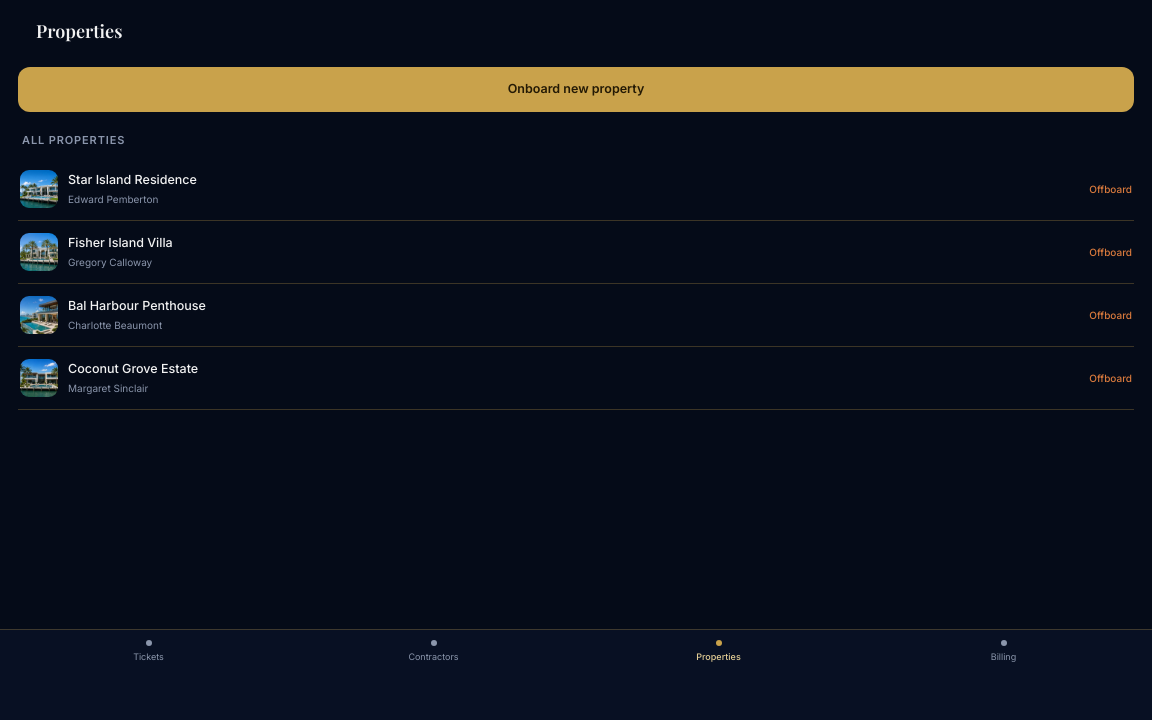
Scenario: Pendiente #1: onboarding a test property makes it appear in the Owner picker › a property added in Admin shows up as a pickable owner
Click the button "Onboard new property" at (576, 89), box [18, 67, 1134, 112]
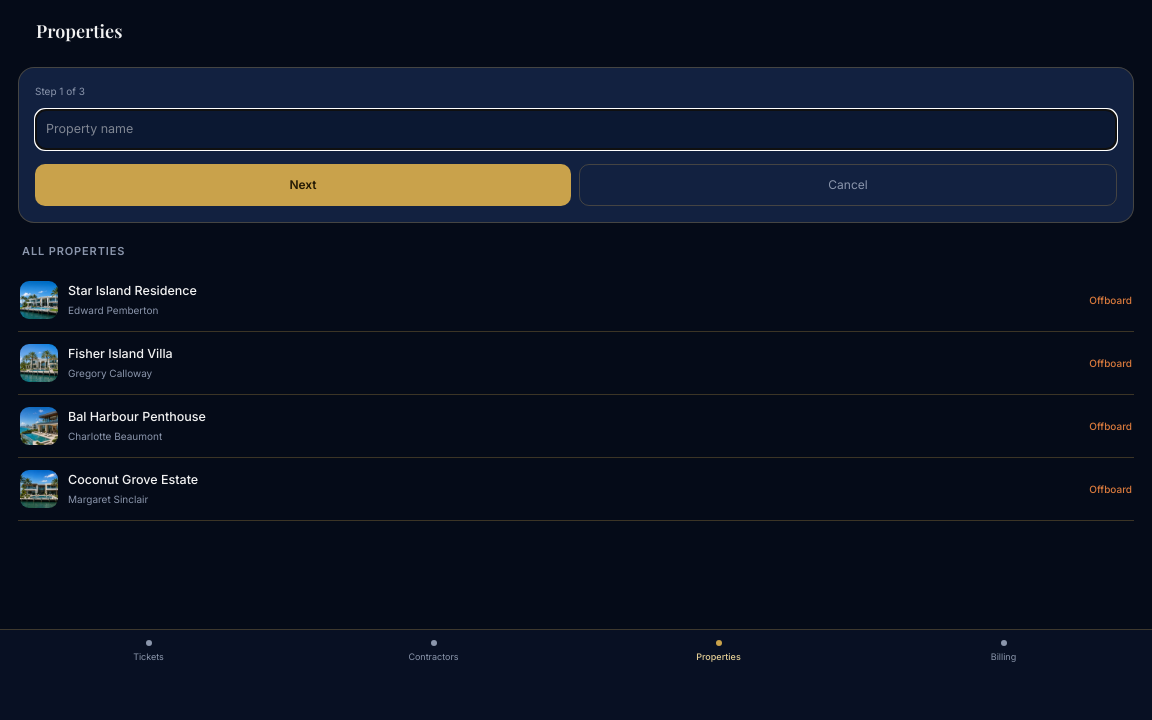
Type "Test Villa" into the field with placeholder "Property name" at (576, 129), box [35, 109, 1117, 150]
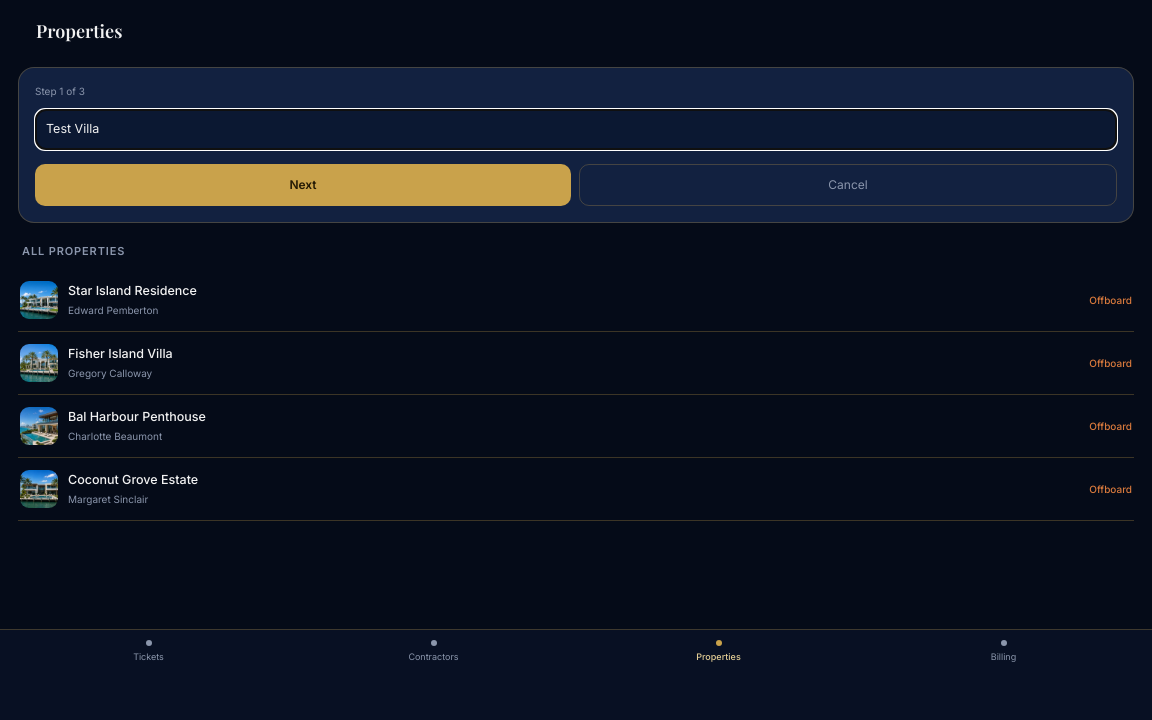
Click the button "Next" at (303, 185), box [35, 164, 571, 206]
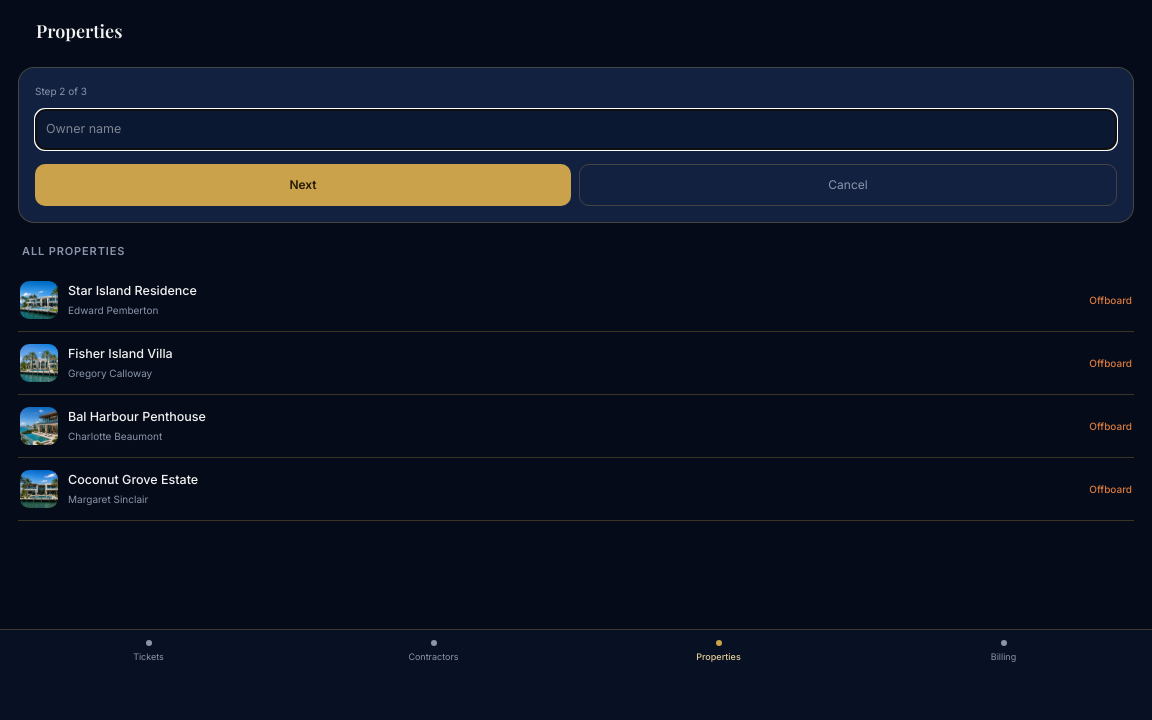
Type "Test Owner" into the field with placeholder "Owner name" at (576, 129), box [35, 109, 1117, 150]
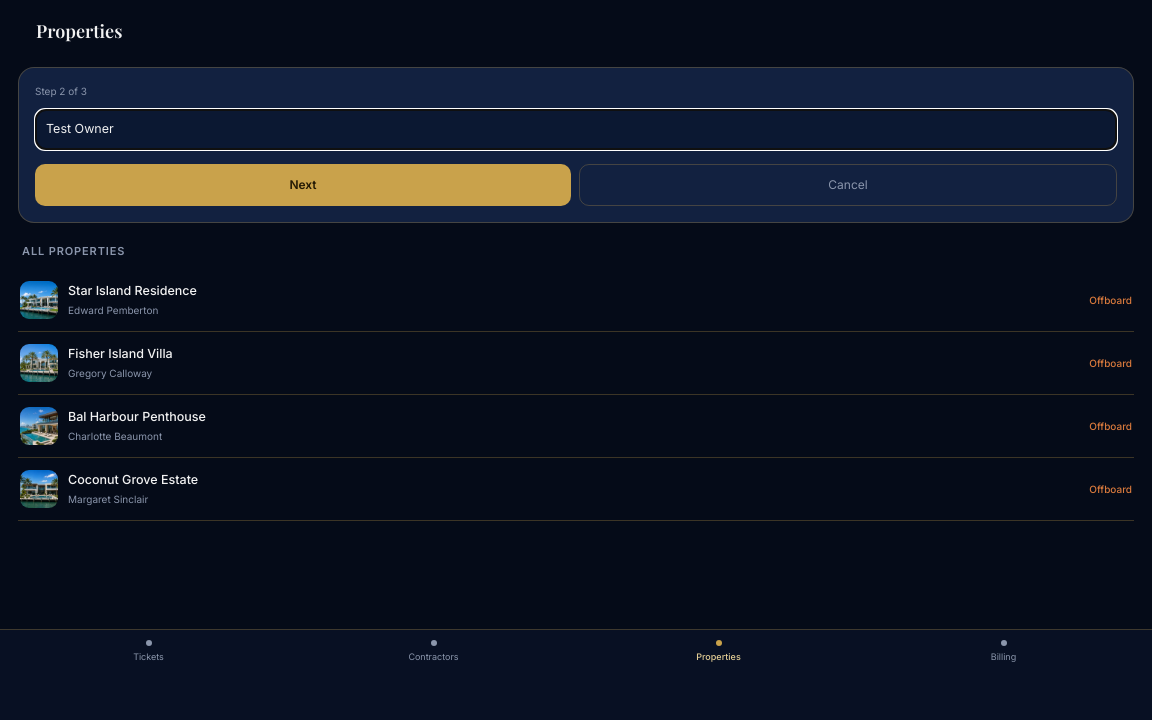
Click the button "Next" at (303, 185), box [35, 164, 571, 206]
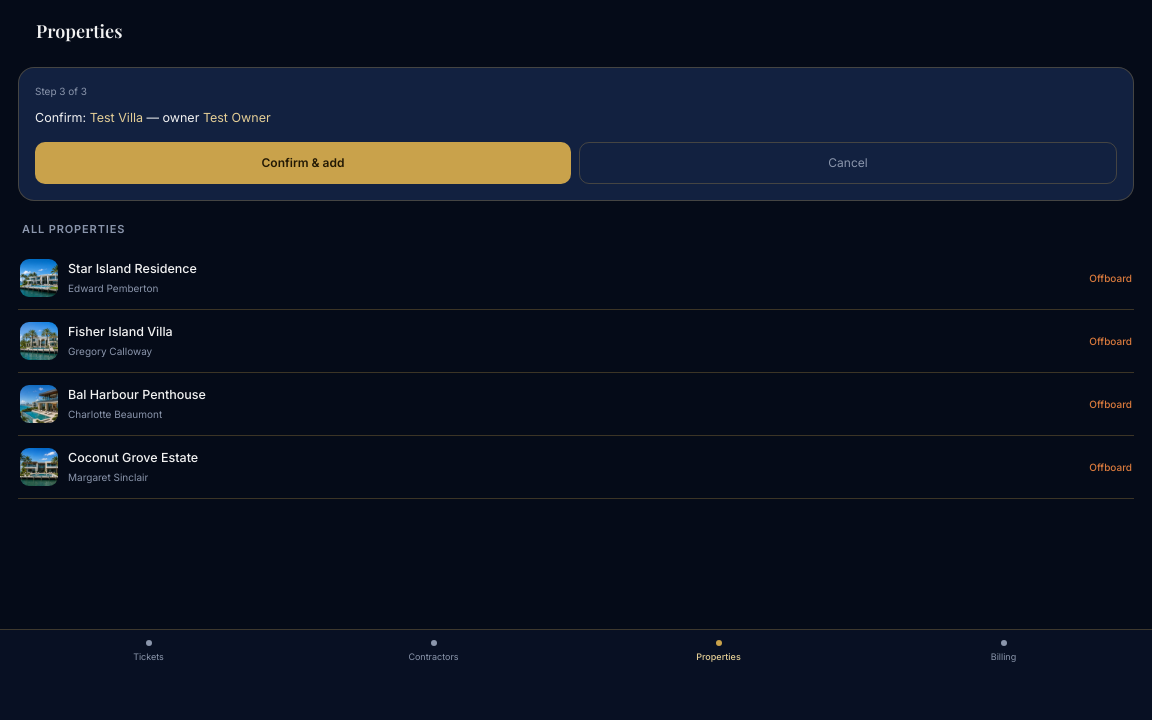
Click the button "Confirm & add" at (303, 163), box [35, 142, 571, 184]
(page scrolled)
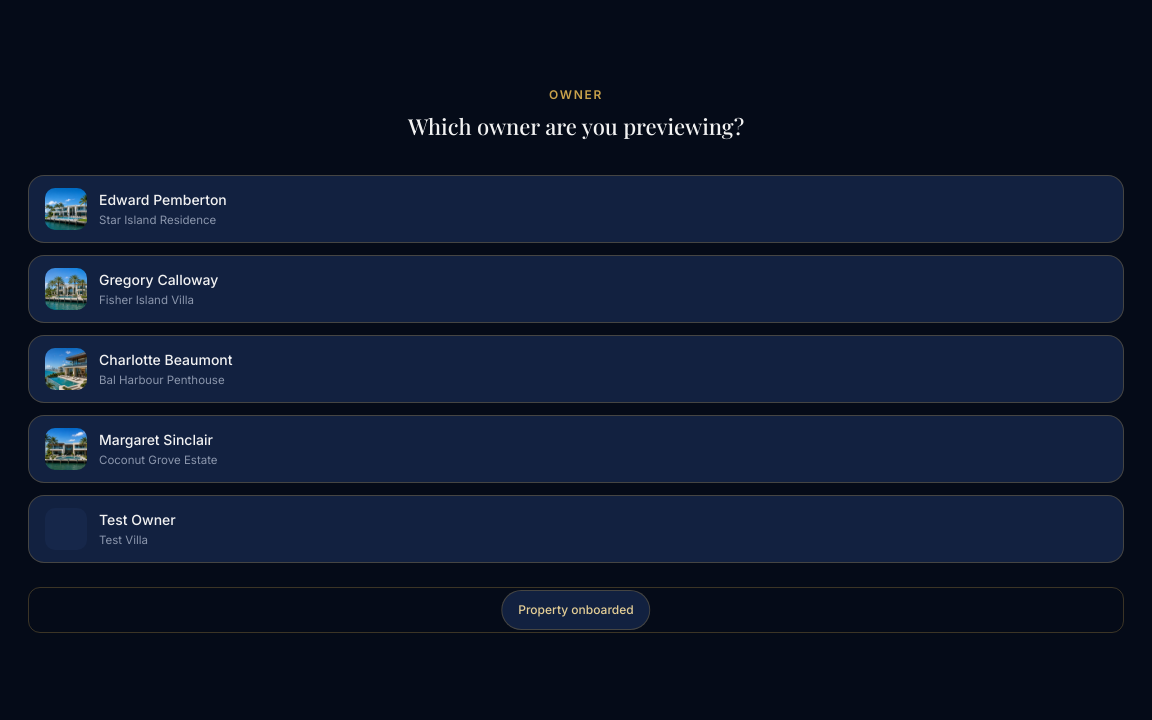
Now the text "Test Owner" is shown, box [99, 509, 176, 530]
